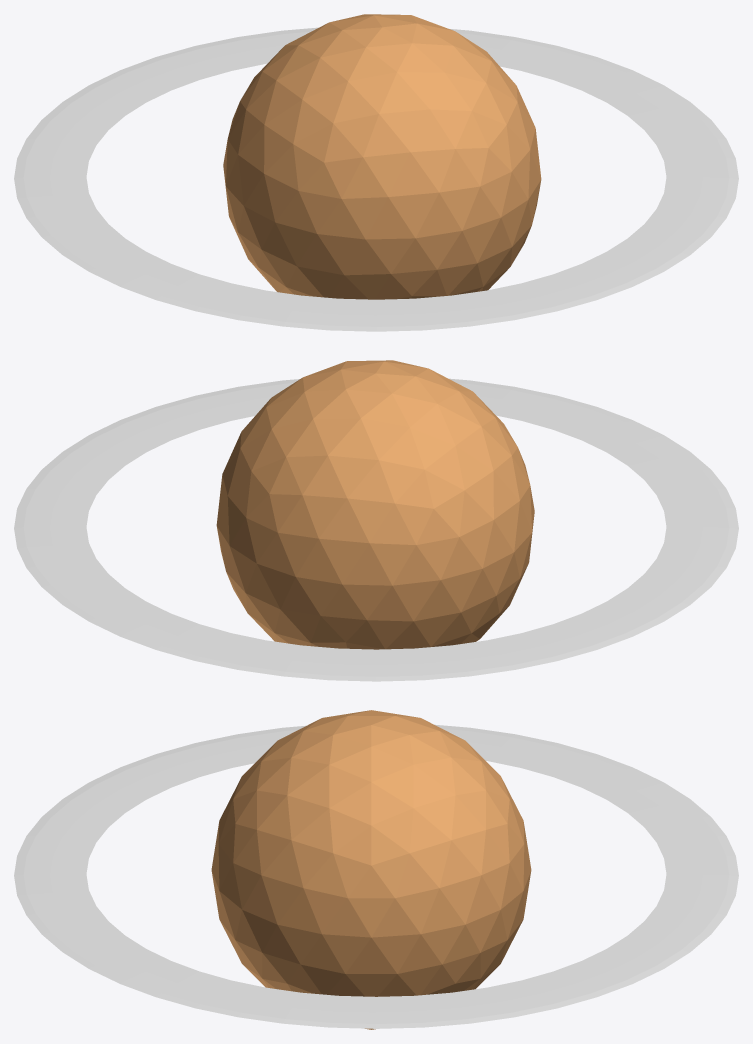
Rendered from uranus.fbx.
The picture shows the model from 3 angles, top to bottom: view 1: azimuth 30°, elevation 25°; view 2: azimuth 150°, elevation 25°; view 3: azimuth 270°, elevation 25°; orthographic projection.
Parts seen in each view (by area): view 1: Icosphère, Tore.001; view 2: Icosphère, Tore.001; view 3: Icosphère, Tore.001.
Part boxes in pixels (bbox=[...]): Icosphère: bbox=[223, 14, 541, 299]; Tore.001: bbox=[14, 27, 738, 331]; Icosphère: bbox=[216, 360, 534, 649]; Tore.001: bbox=[14, 378, 738, 681]; Icosphère: bbox=[211, 710, 531, 1029]; Tore.001: bbox=[14, 724, 738, 1028].
Bounding box in the file's own units: 415 × 183 × 415.
